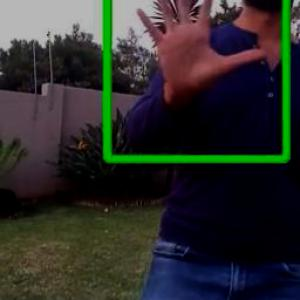follow_hand: (132, 0, 271, 99)
